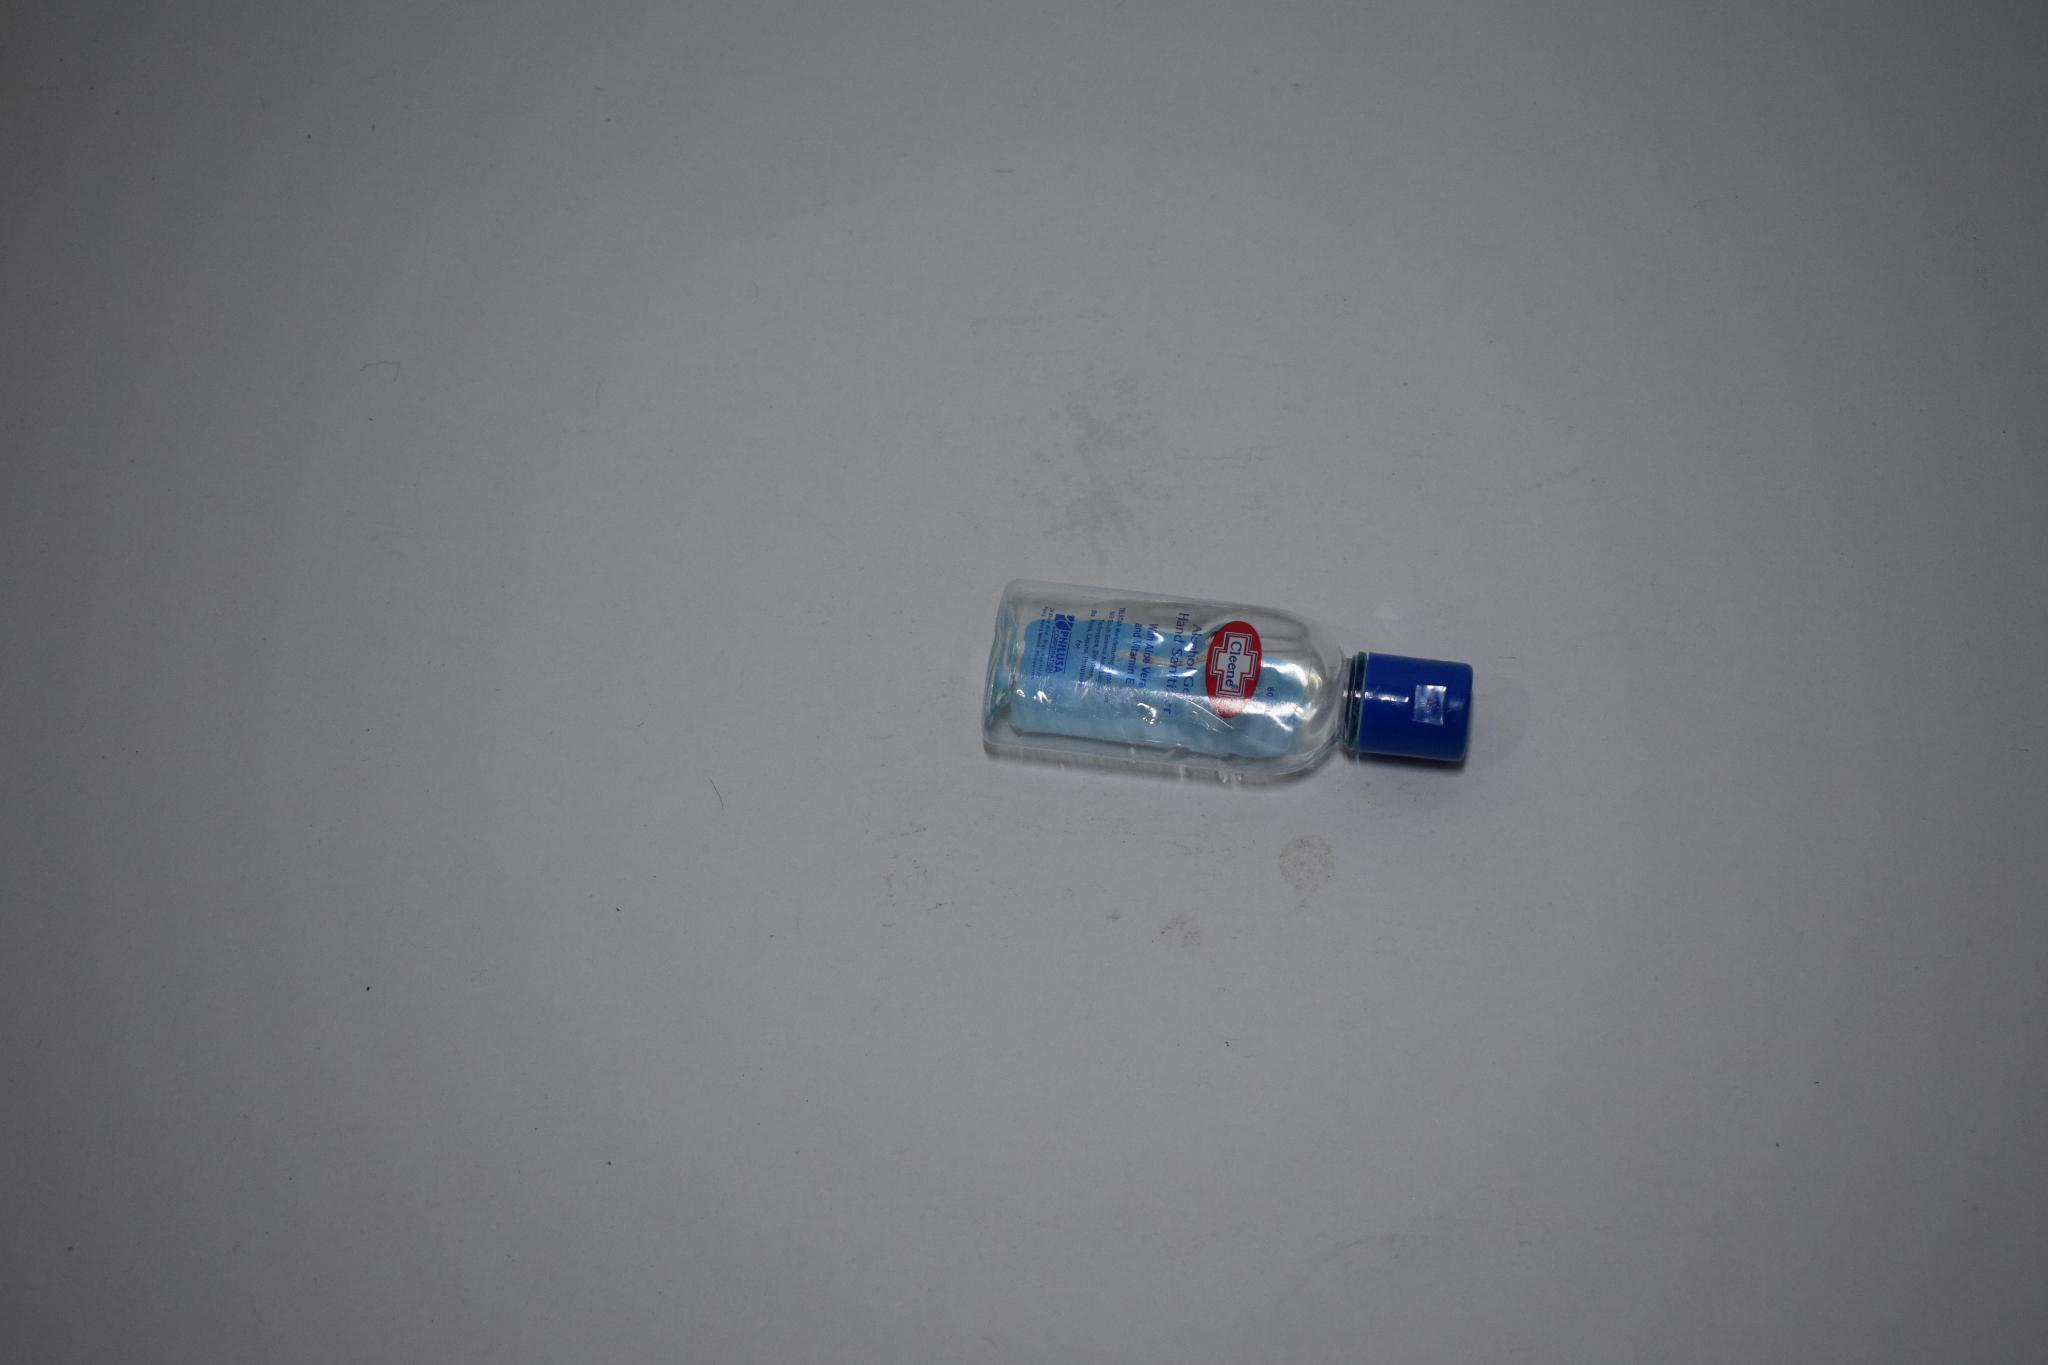bottle: (978, 570, 1524, 791)
